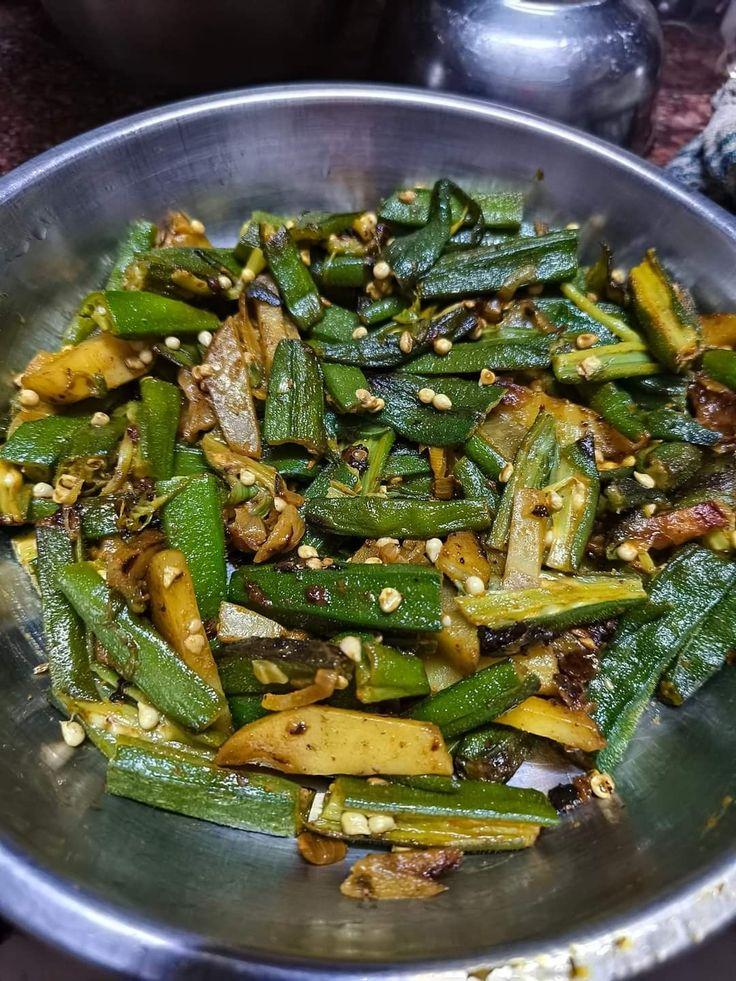bhindi: (94, 196, 733, 831)
